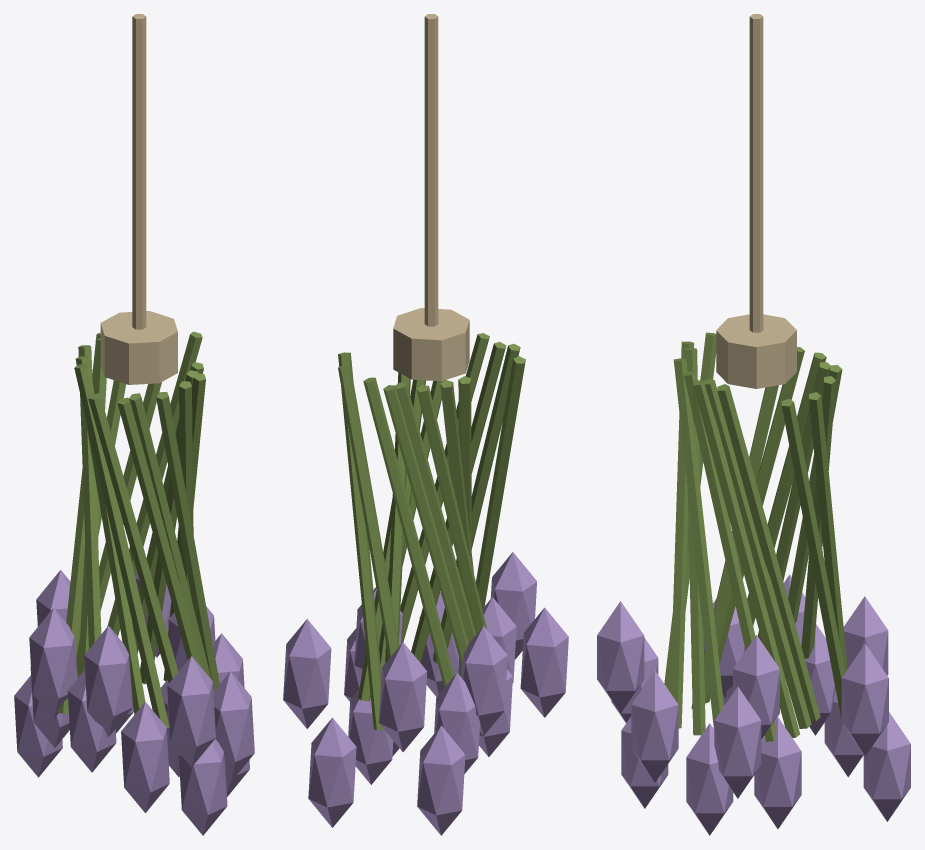
Rendered from hanging_herbs_lavender.glb.
The picture shows the model from 3 angles, left to right: view 1: azimuth 30°, elevation 25°; view 2: azimuth 150°, elevation 25°; view 3: azimuth 270°, elevation 25°; orthographic projection.
Visible parts, largest first — view 1: Tie, Cord, Sprig12, Sprig7, Bud7, Bud15, Bud12, Sprig10, Bud9, Sprig15, Bud2, Bud10 (+19 smaller); view 2: Tie, Cord, Sprig6, Sprig11, Bud11, Bud3, Bud14, Bud7, Bud6, Sprig14, Sprig3, Sprig9 (+20 smaller); view 3: Tie, Cord, Sprig10, Sprig13, Sprig8, Sprig0, Sprig3, Bud10, Bud3, Bud15, Bud13, Sprig5 (+20 smaller).
Part boxes in pixels (x1=…): Tie: x1=100, y1=311, x2=177, y2=384; Cord: x1=132, y1=14, x2=146, y2=329; Sprig12: x1=74, y1=363, x2=169, y2=728; Sprig7: x1=88, y1=393, x2=178, y2=683; Bud7: x1=121, y1=702, x2=169, y2=812; Bud15: x1=167, y1=656, x2=215, y2=767; Bud12: x1=84, y1=625, x2=132, y2=736; Sprig10: x1=156, y1=391, x2=219, y2=690; Bud9: x1=29, y1=608, x2=77, y2=719; Sprig15: x1=117, y1=397, x2=203, y2=669; Bud2: x1=178, y1=739, x2=227, y2=835; Bud10: x1=213, y1=671, x2=254, y2=782; Tie: x1=393, y1=308, x2=469, y2=381; Cord: x1=424, y1=14, x2=438, y2=326; Sprig6: x1=363, y1=377, x2=454, y2=687; Sprig11: x1=338, y1=365, x2=399, y2=658; Bud11: x1=308, y1=717, x2=356, y2=827; Bud3: x1=283, y1=619, x2=331, y2=728; Bud14: x1=417, y1=725, x2=465, y2=835; Bud7: x1=520, y1=607, x2=568, y2=717; Bud6: x1=379, y1=642, x2=427, y2=751; Sprig14: x1=383, y1=385, x2=468, y2=665; Sprig3: x1=338, y1=352, x2=383, y2=730; Sprig9: x1=416, y1=385, x2=487, y2=633; Tie: x1=716, y1=314, x2=796, y2=388; Cord: x1=749, y1=14, x2=763, y2=332; Sprig10: x1=673, y1=358, x2=723, y2=729; Sprig13: x1=693, y1=380, x2=799, y2=737; Sprig8: x1=717, y1=384, x2=820, y2=721; Sprig0: x1=704, y1=378, x2=811, y2=728; Sprig3: x1=781, y1=398, x2=845, y2=717; Bud10: x1=631, y1=670, x2=678, y2=782; Bud3: x1=841, y1=643, x2=888, y2=756; Bud15: x1=597, y1=601, x2=644, y2=713; Bud13: x1=714, y1=686, x2=761, y2=798; Sprig5: x1=684, y1=371, x2=776, y2=741.
Size of the model in its own units: 0.1867 by 0.754 by 0.272.
